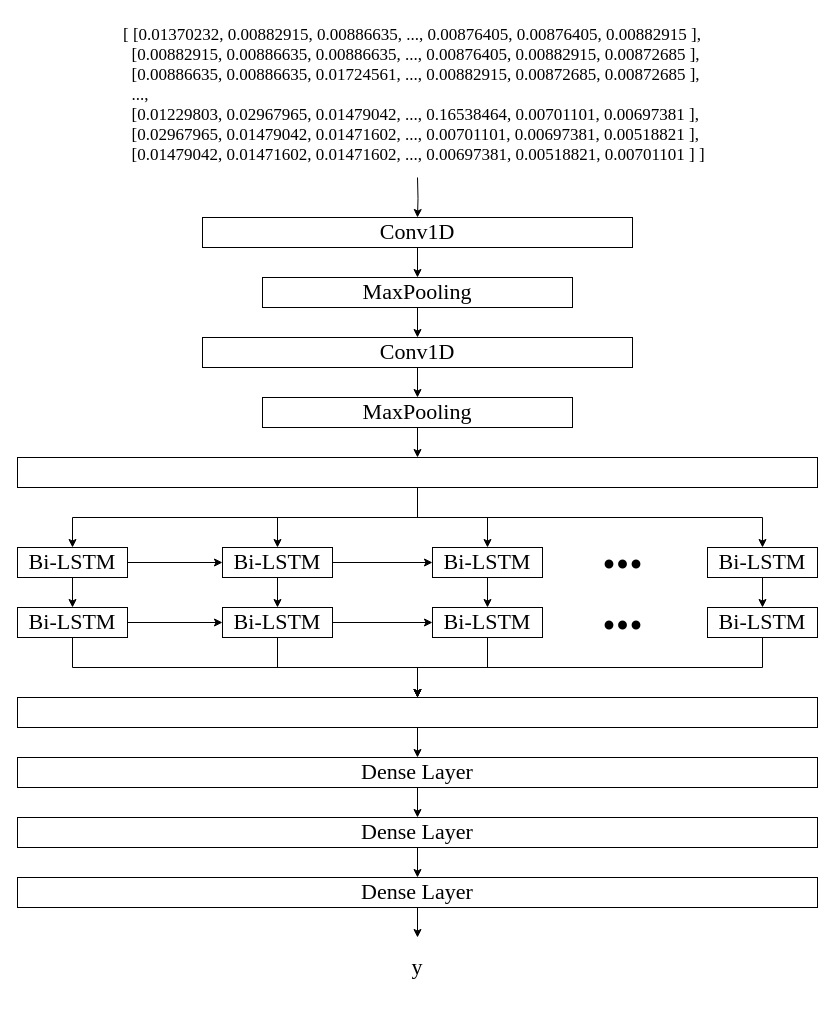
This 835x1014 diagram has some shape labels left out. The centre of each missing label's shape, as x and y in pixels:
"Dropout" belongs at [417,712].
"Flatten" belongs at [417,472].
